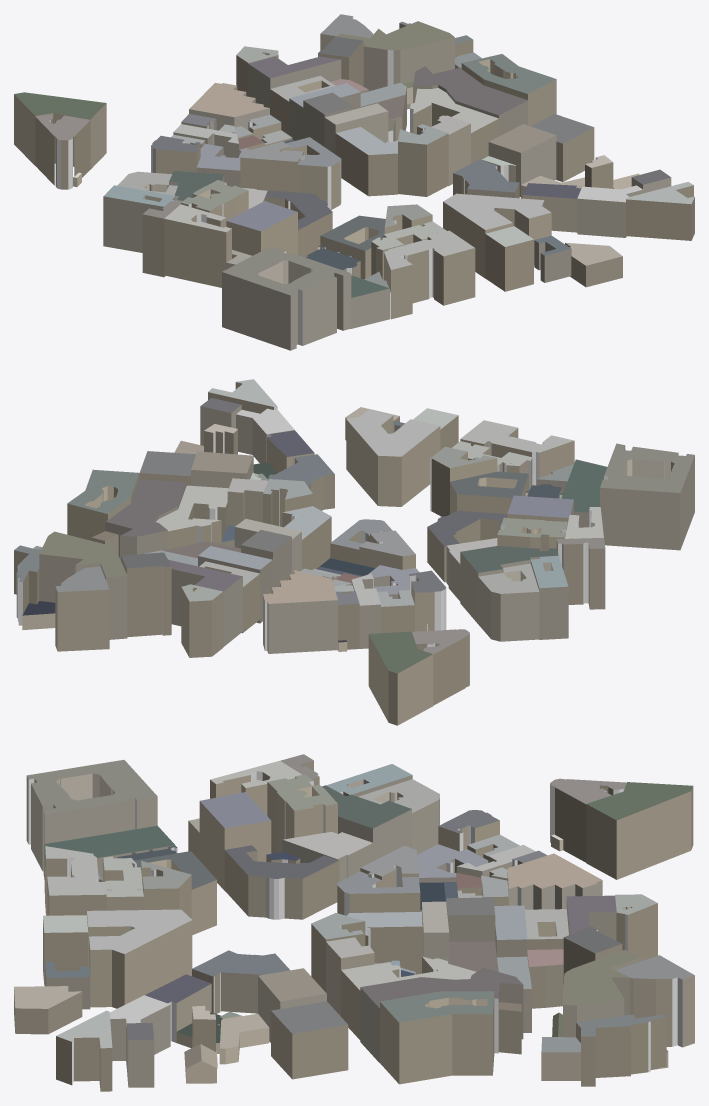
The picture shows the model from 3 angles, top to bottom: view 1: azimuth 30°, elevation 25°; view 2: azimuth 150°, elevation 25°; view 3: azimuth 270°, elevation 25°; orthographic projection. The views are drawn at different scales.
Parts seen in each view (by area): view 1: tuile; view 2: tuile; view 3: tuile.
Boxes of the visible parts, bbox=[...] form: tuile: bbox=[14, 14, 694, 350]; tuile: bbox=[14, 379, 694, 725]; tuile: bbox=[14, 754, 694, 1091].
Size of the model in its own units: 257 by 36.22 by 274.
